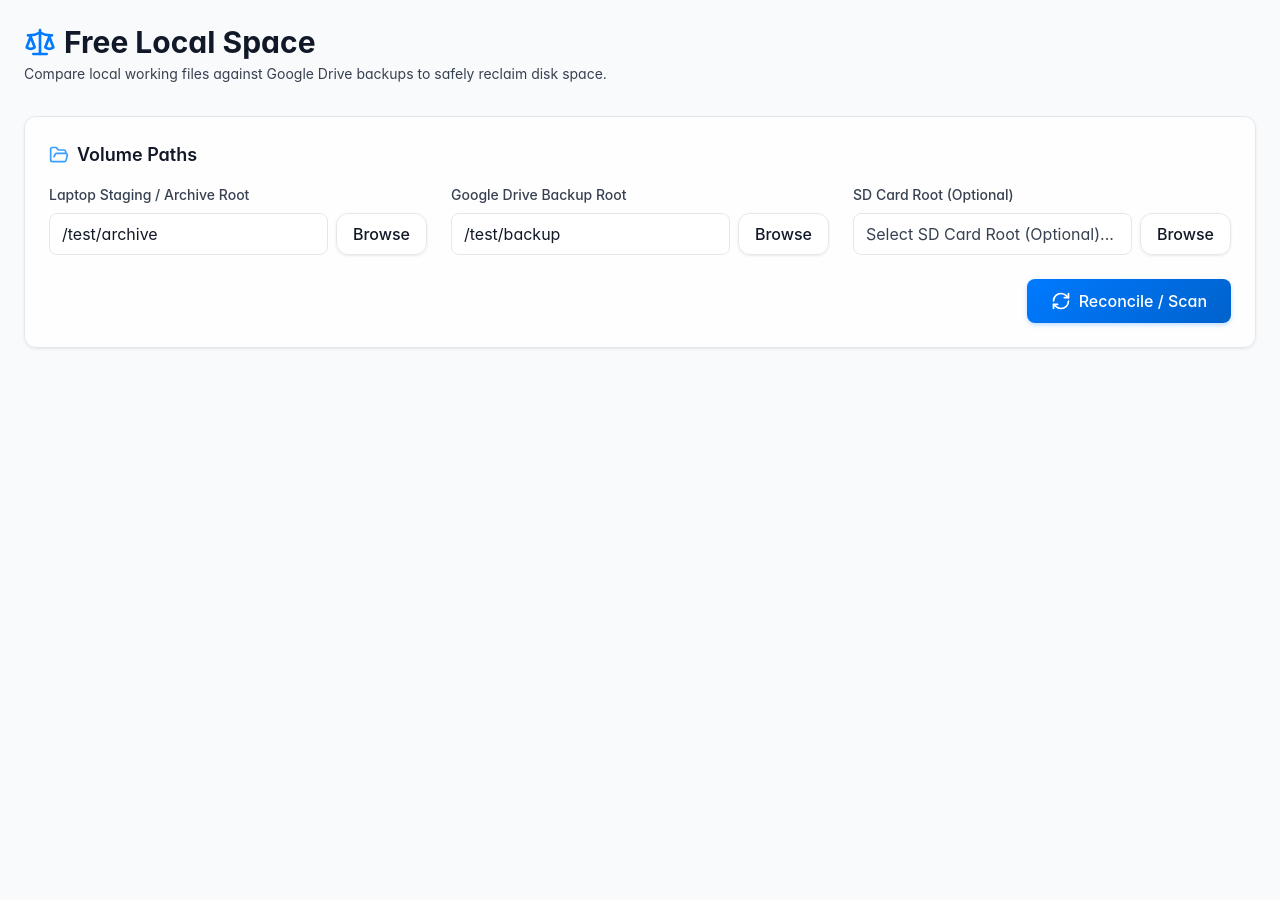
Test: Reconcile Page › handles folder expand/collapse and trashing actions
Expected: the field with placeholder "Select Laptop Archive Root..." below "Laptop Staging / Archive Root" holds "/test/archive", [49, 213, 328, 255]
// Trigger scan first to get the report
Step 1. Click the button "Reconcile / Scan" → (1129, 301), box [1027, 279, 1231, 323]
(page scrolled)
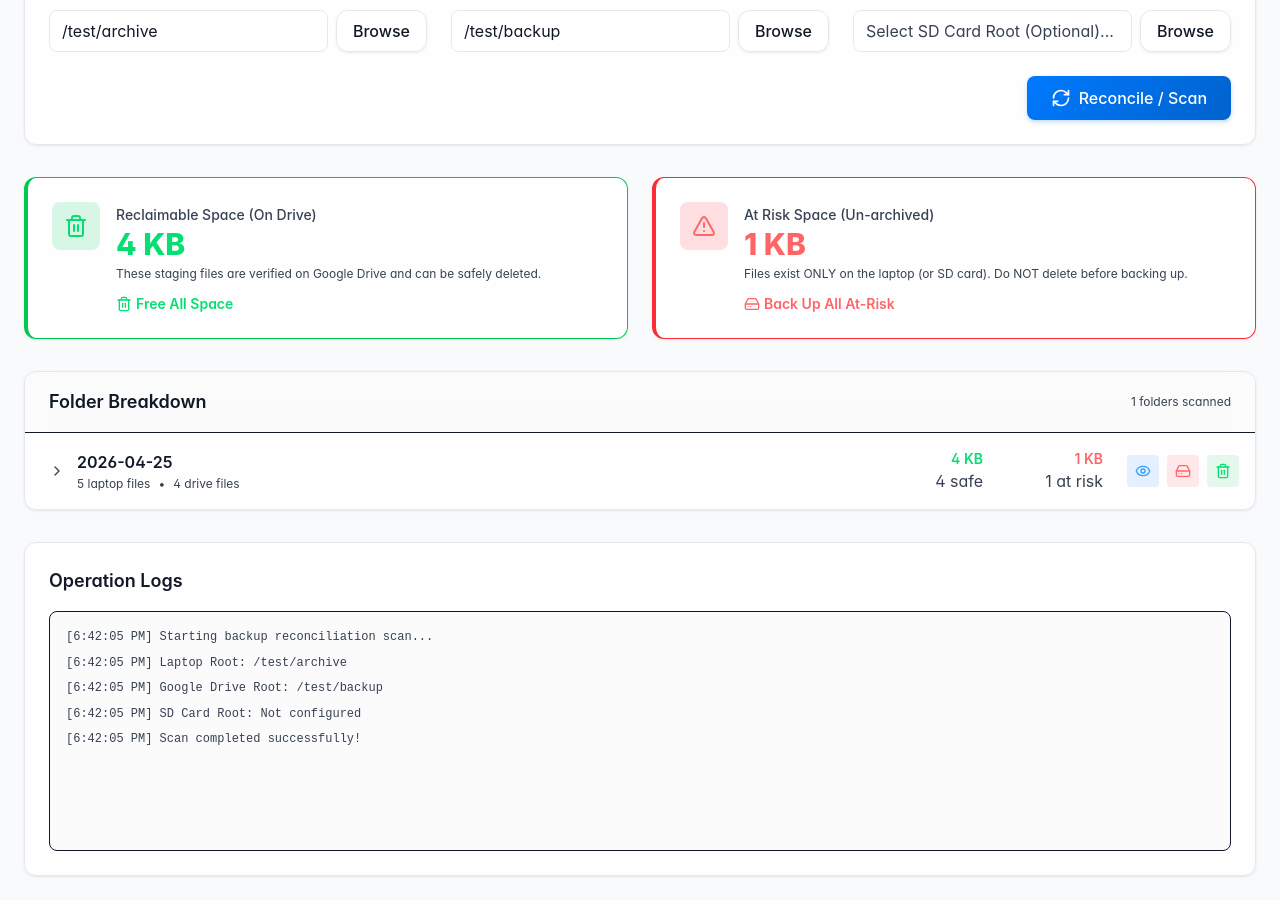
Expected: the text "2026-04-25" is shown
// Expand folder
Step 2. Click the text "2026-04-25" → (125, 462), box [77, 452, 173, 472]
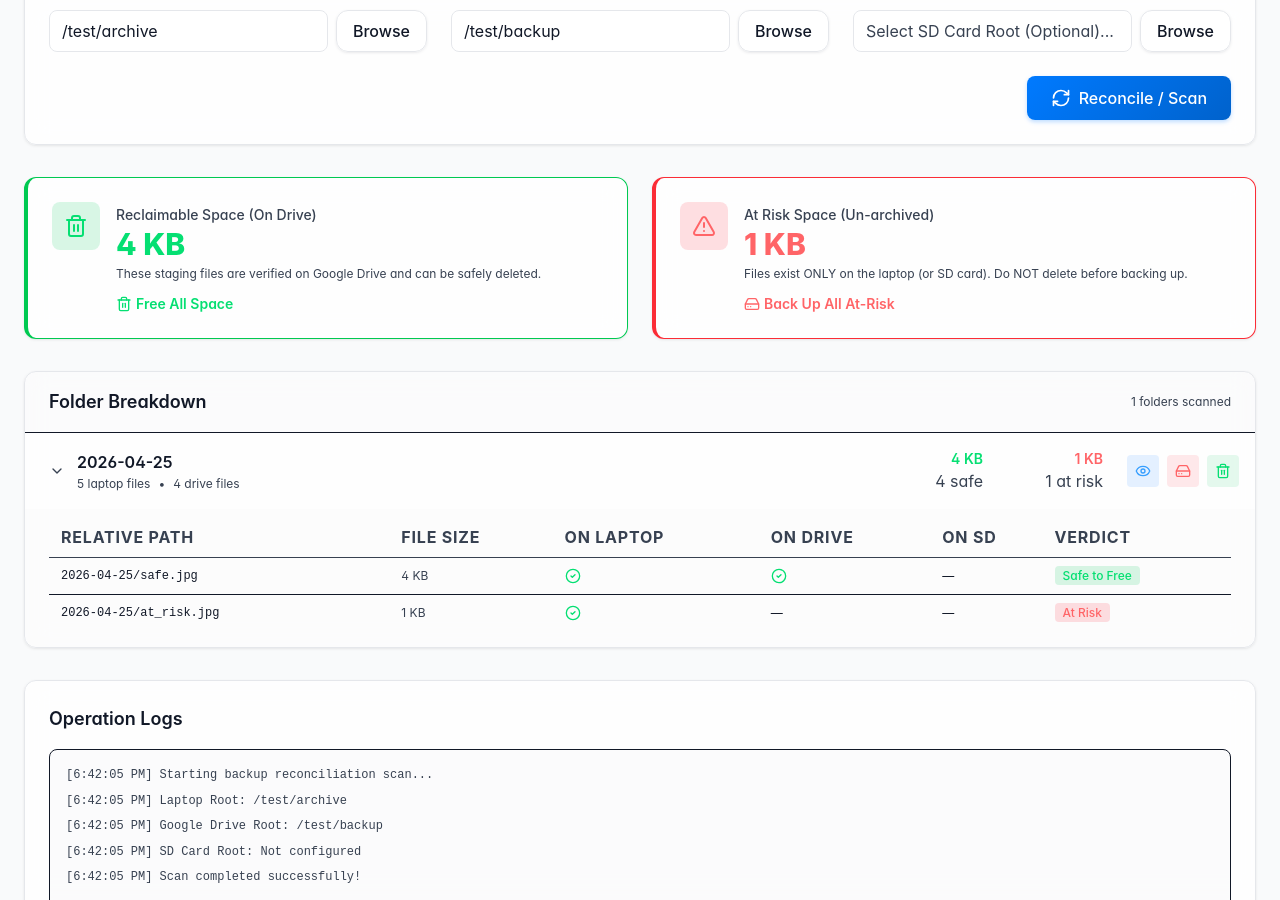
Expected: the text "2026-04-25/safe.jpg" is shown, [49, 558, 401, 594]
Expected: the text "2026-04-25/at_risk.jpg" is shown, [49, 594, 401, 631]
// Click trash button (within folder summary context)
Step 3. Click the button titled "Free local staging files" → (1223, 471), box [1207, 455, 1239, 487]
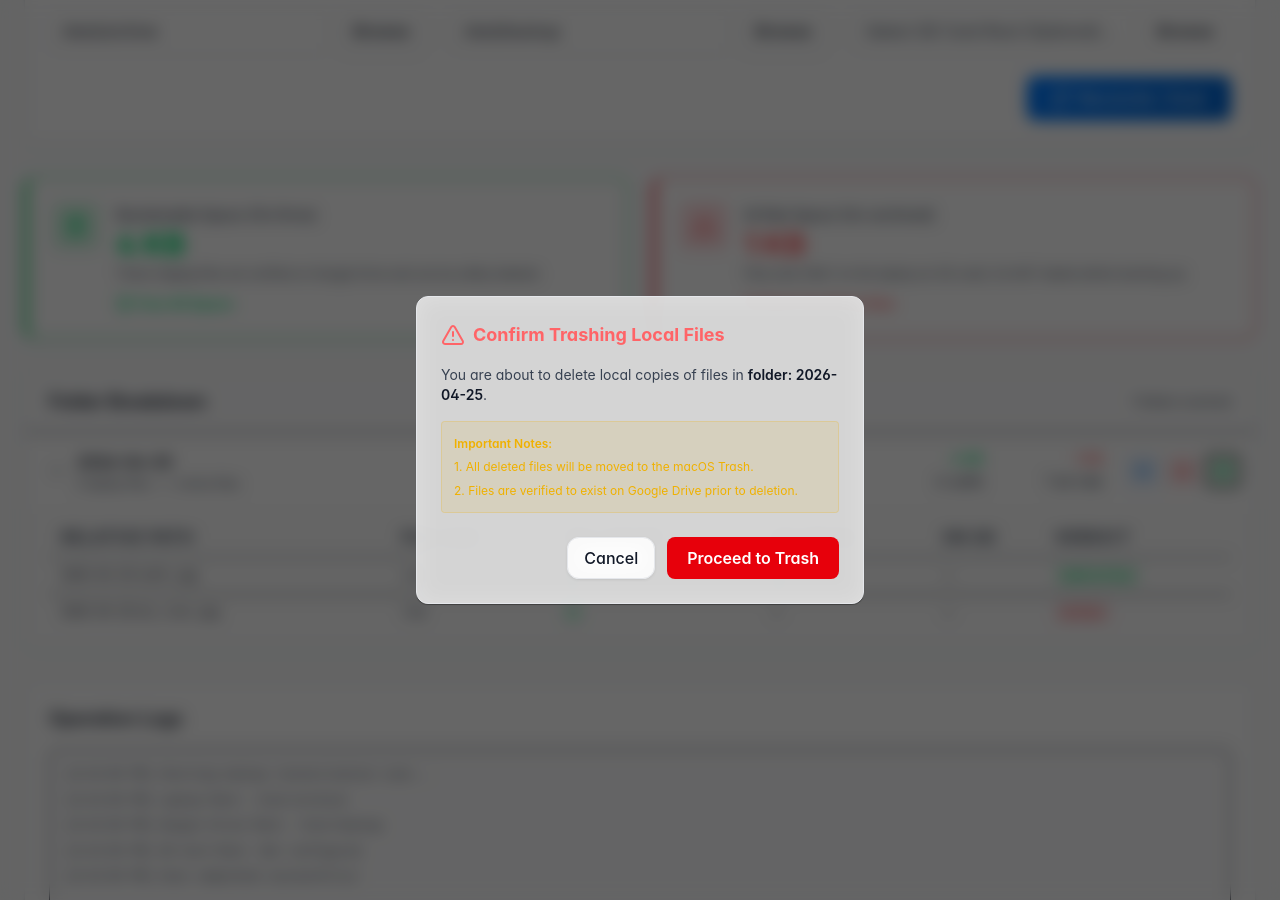
Expected: the heading "Confirm Trashing Local Files" is shown, [441, 323, 725, 347]
